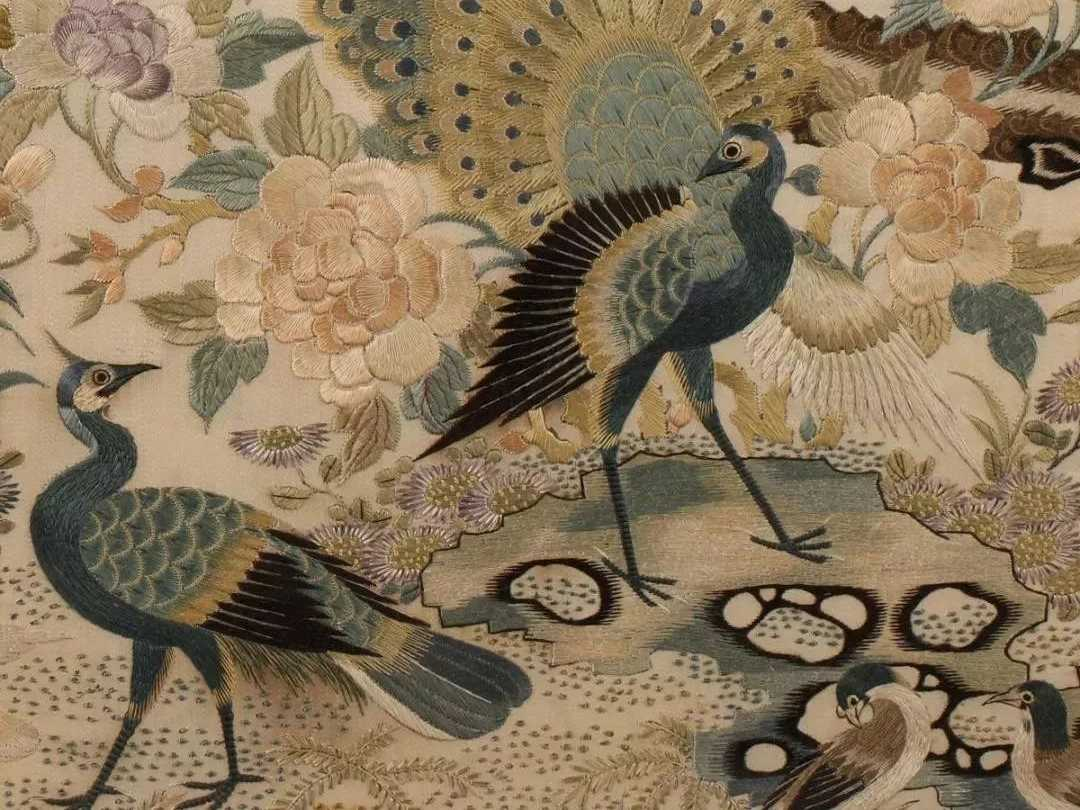flower: (206, 152, 481, 401), (808, 86, 1030, 300), (1, 0, 226, 137)
peacock: (278, 0, 976, 617), (12, 319, 530, 810)
